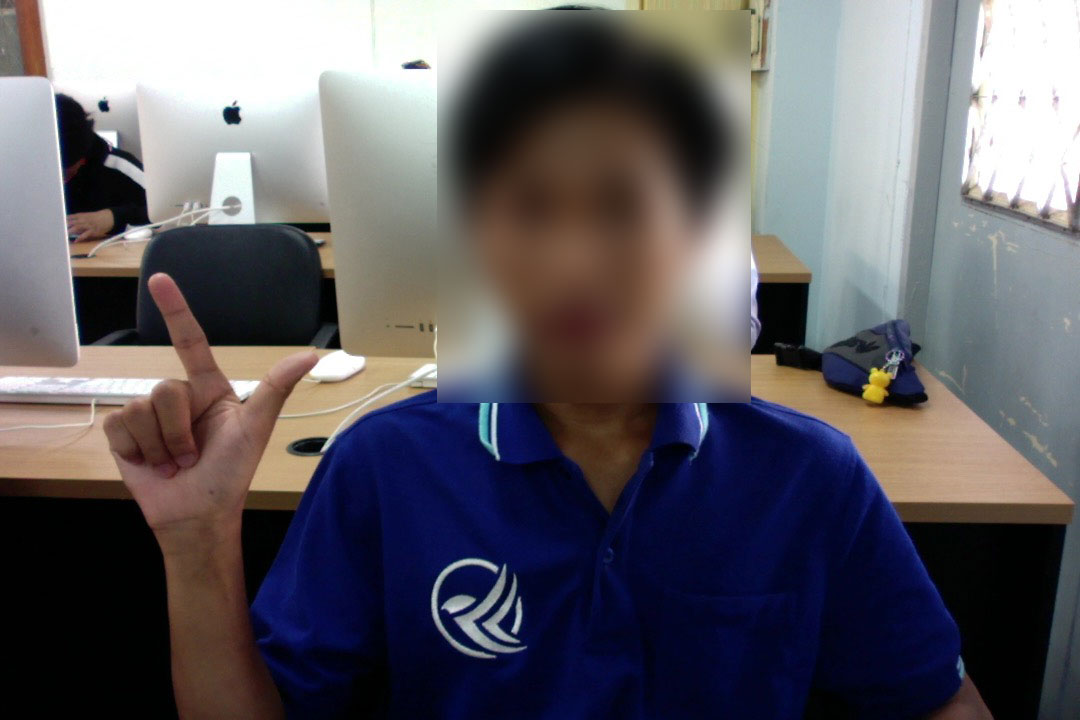lor: (69, 272, 321, 543)
